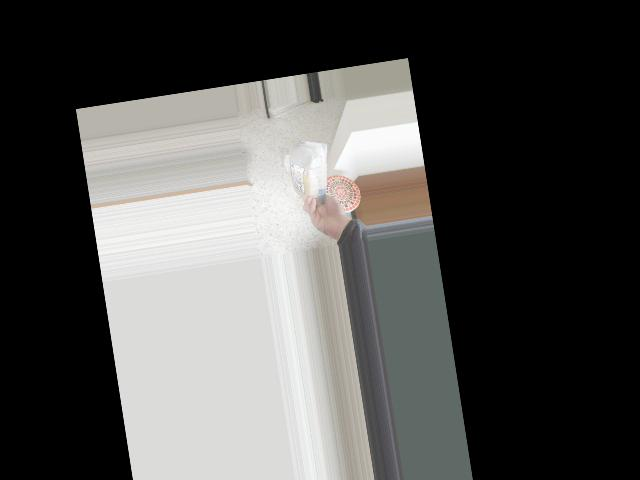cheese: (285, 136, 332, 206)
